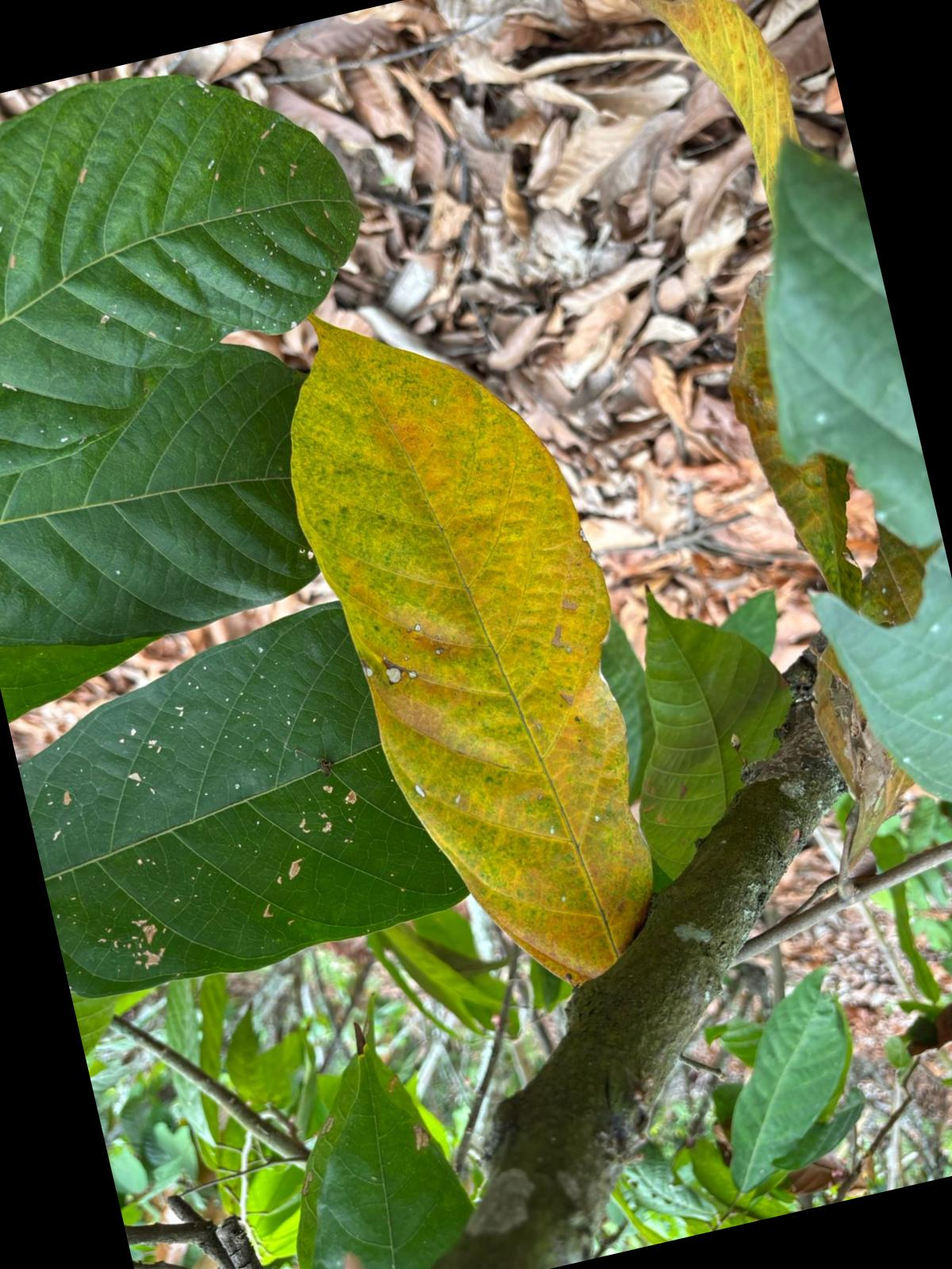Fosforo: (292, 320, 651, 983)
